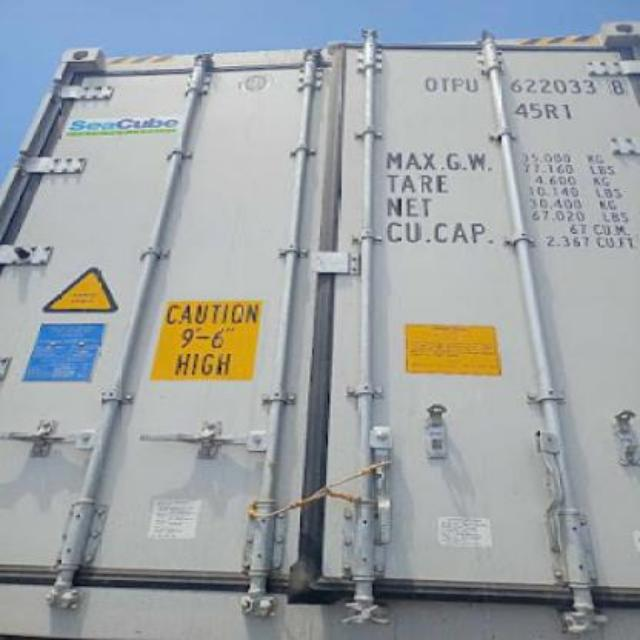0: (554, 76, 568, 94)
2: (524, 76, 538, 96), (538, 77, 552, 97)
3: (564, 76, 584, 96), (582, 78, 598, 96)
6: (508, 78, 526, 96)
8: (608, 78, 628, 98)
O: (424, 77, 440, 93)
P: (452, 76, 464, 94)
T: (438, 77, 452, 93)
U: (466, 76, 479, 94)
